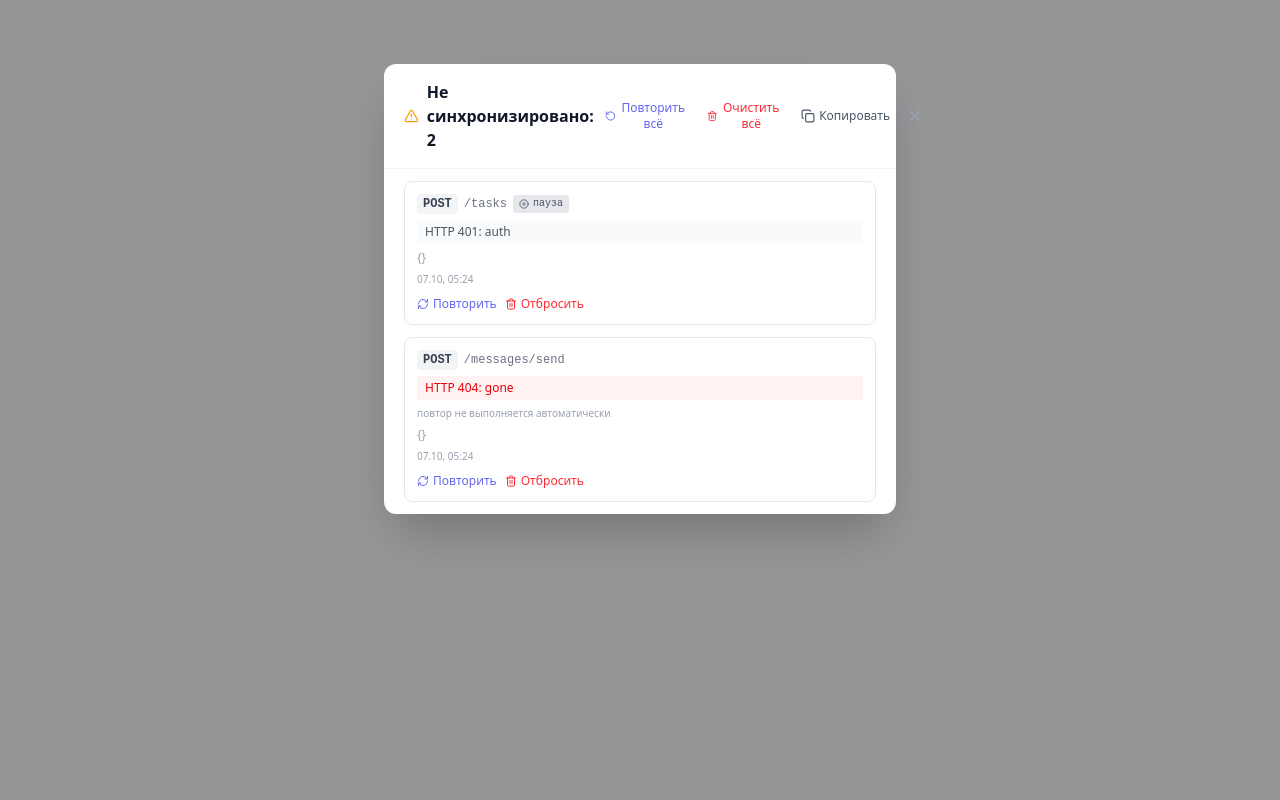
Test case: FailedMutationsPanel › clear all removes failed and paused mutations
The width and height of the screenshot is (1280, 800).
Expected: the heading "Не синхронизировано: 2" is shown, [427, 80, 597, 152]
Click the button "Очистить всё" at (744, 116), box [699, 96, 789, 136]
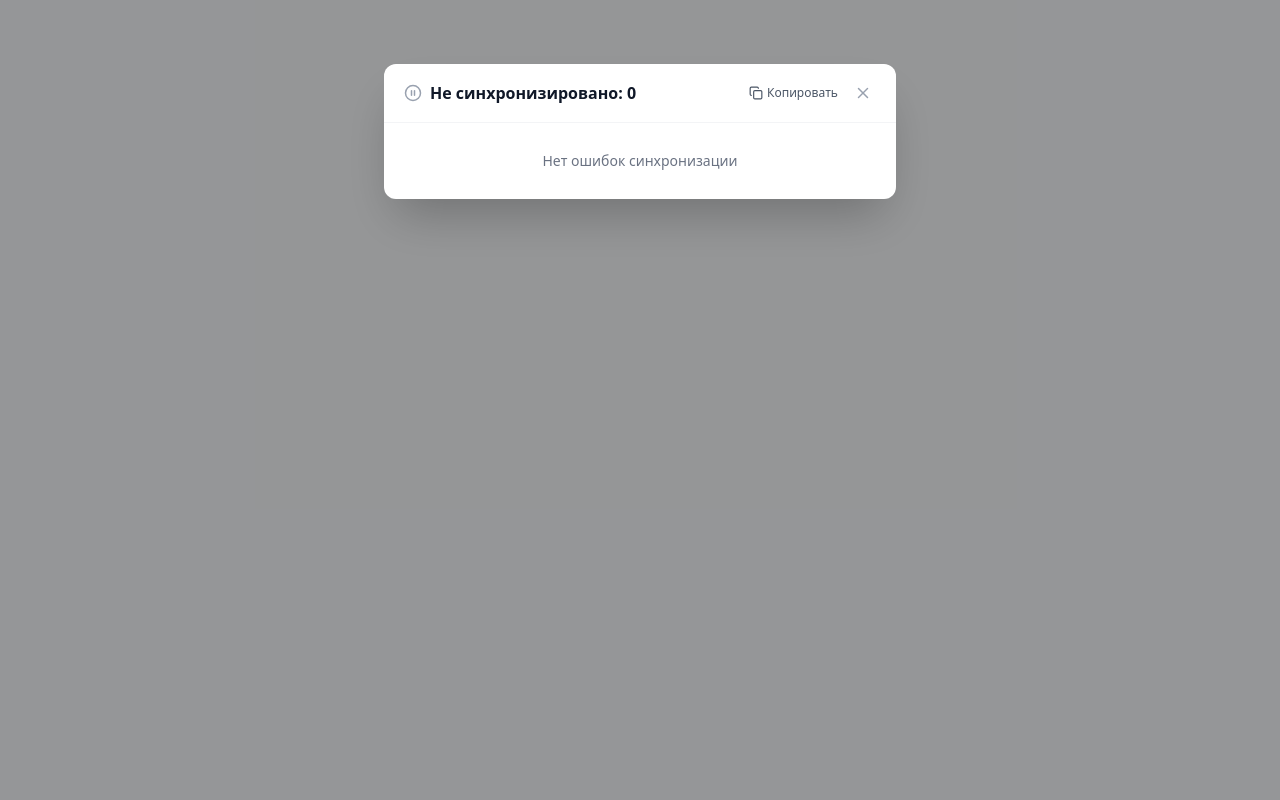
Result: the text "Нет ошибок синхронизации" is shown at [542, 151, 738, 170]
